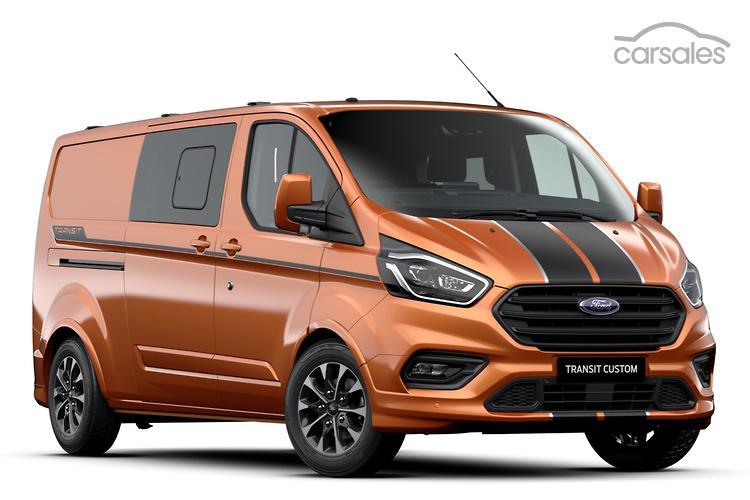van: (32, 98, 717, 478)
